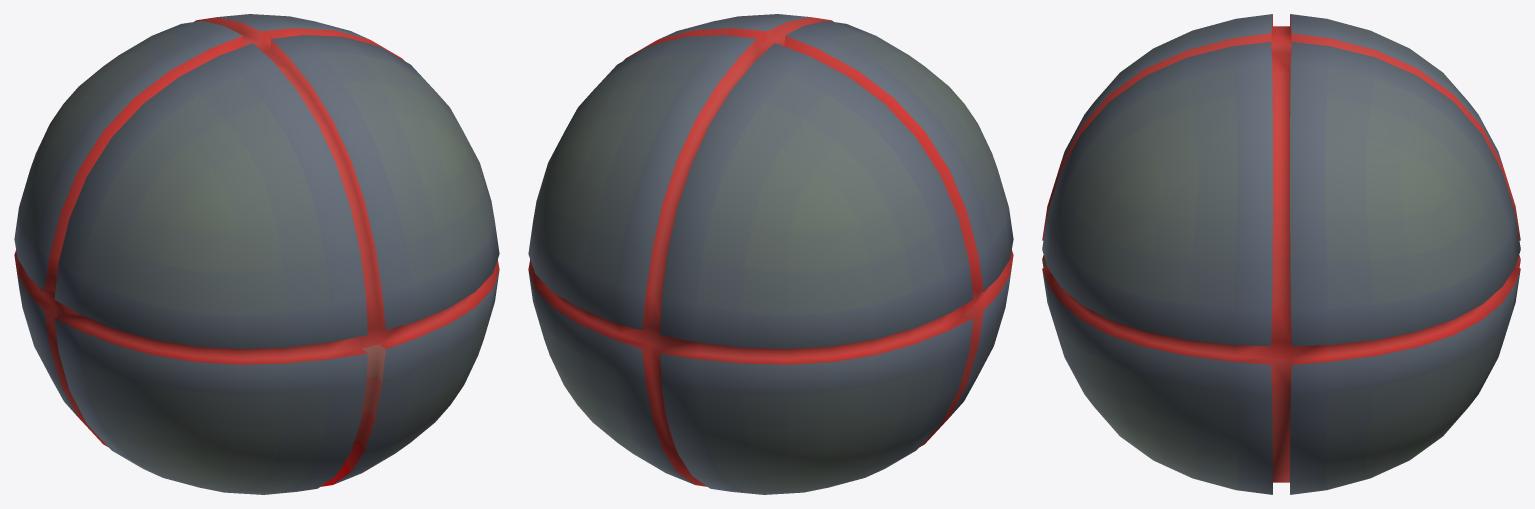
The model's file is Avatar.fbx.
3 renders of one model, left to right at view 1: azimuth 30°, elevation 25°; view 2: azimuth 150°, elevation 25°; view 3: azimuth 270°, elevation 25°, orthographic.
Parts seen in each view (by area): view 1: Mesh; view 2: Mesh; view 3: Mesh.
Boxes of the visible parts, <box> form: Mesh: <box>14,14,499,494</box>; Mesh: <box>528,14,1013,494</box>; Mesh: <box>1042,14,1520,494</box>.
Size of the model in its own units: 115 by 115 by 115.
